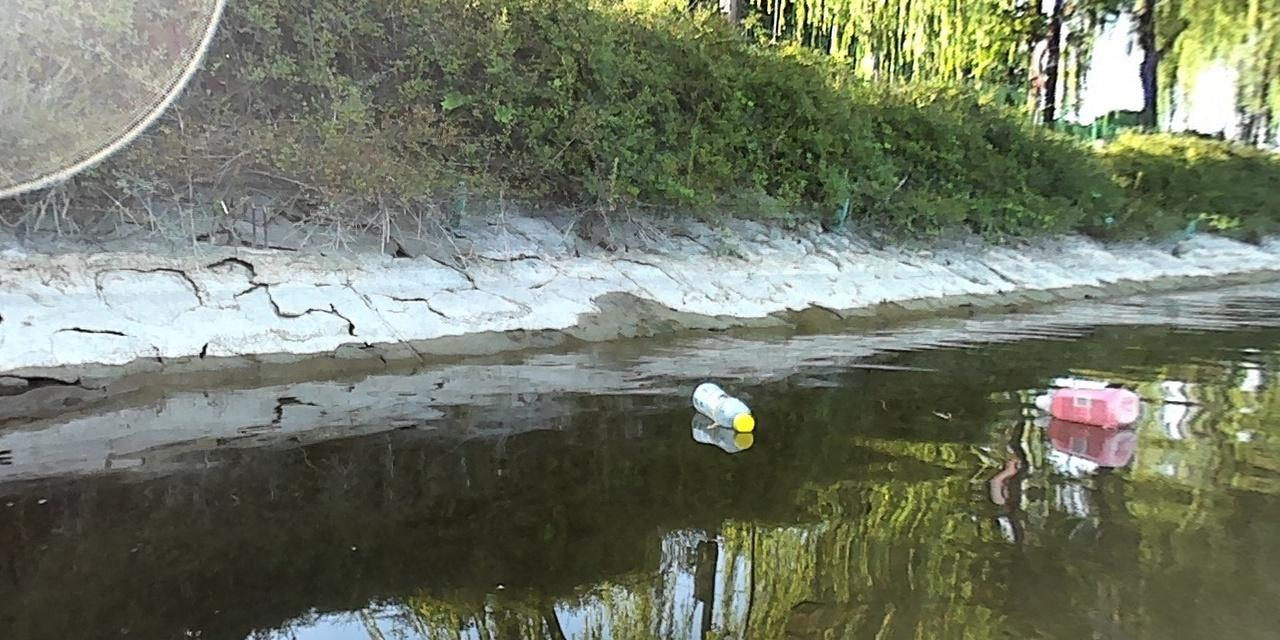bottle: (1030, 384, 1142, 428), (688, 376, 757, 436)
